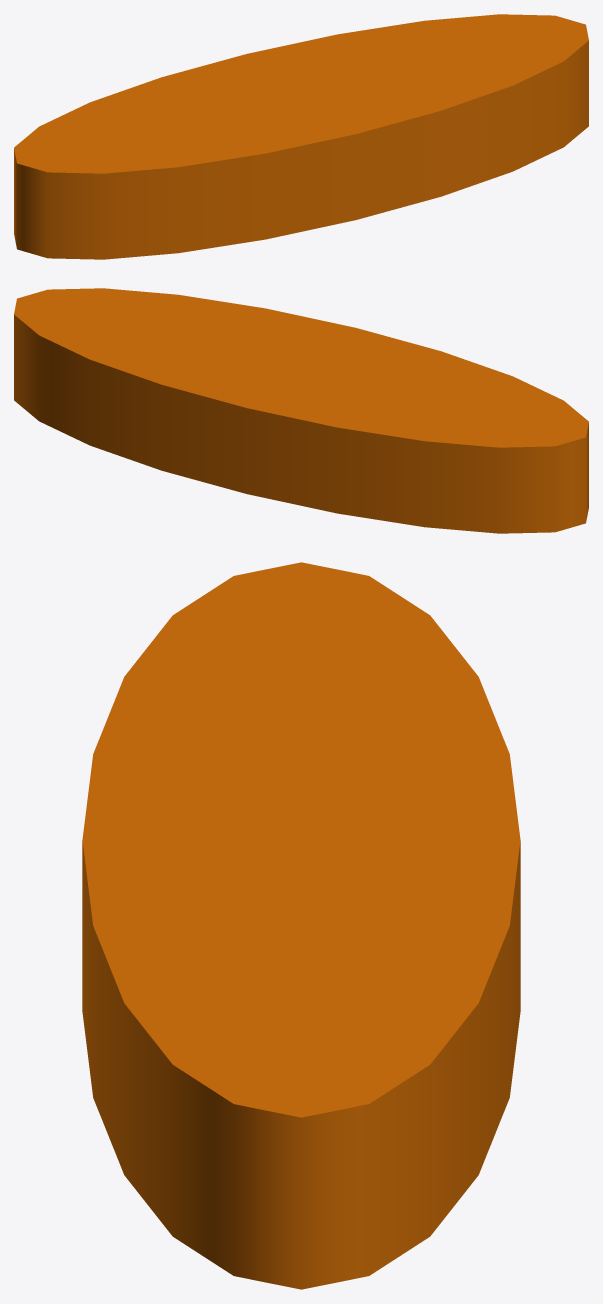
File: Arena.fbx
3 renders of one model, top to bottom at view 1: azimuth 30°, elevation 25°; view 2: azimuth 150°, elevation 25°; view 3: azimuth 270°, elevation 25°, orthographic. The views are drawn at different scales.
Parts seen in each view (by area): view 1: Arena; view 2: Arena; view 3: Arena.
Part boxes in pixels (x1,y1,x2,y2): Arena: (14,14,588,259); Arena: (14,288,588,533); Arena: (82,562,520,1289).
Bounding box in the file's own units: 1385 × 200 × 462.
